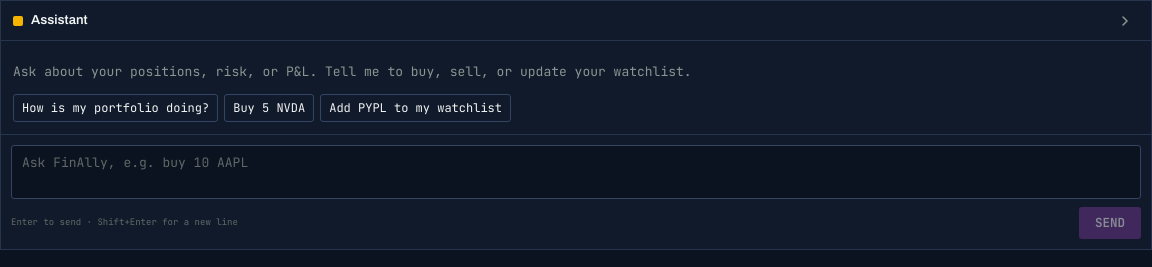
it: ChatPanel › does not refetch after a reply without actions
In the text box with test id "chat-input": {"x": 576, "y": 172} [11,145,1141,199], type "hi"
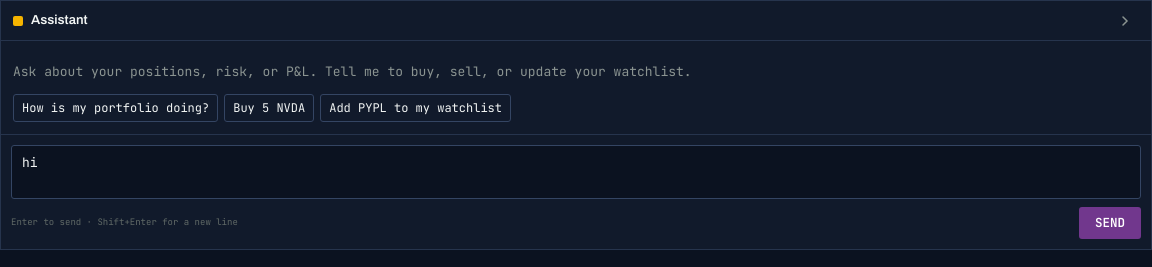
Click the button with test id "chat-send-button": {"x": 1110, "y": 223} [1079,207,1141,239]
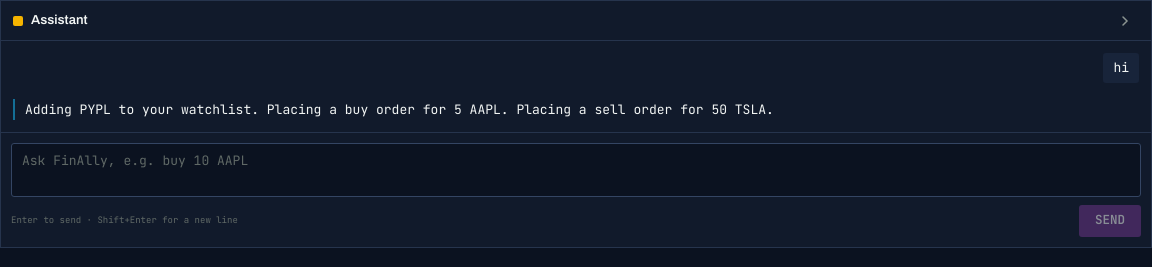
Now the number of elements with test id "chat-message" is 2, box [1103,53,1139,83]; [13,99,1139,120]
